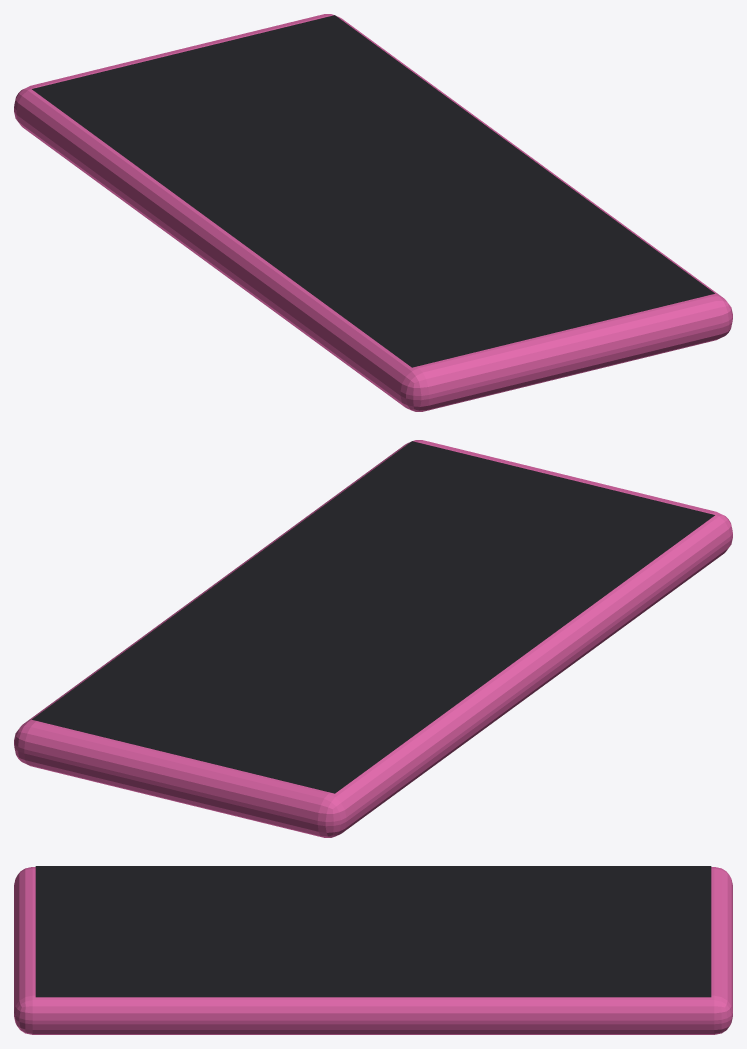
File: oneplus-number-series-model-281-mid-range-2024.glb
3 renders of one model, top to bottom at view 1: azimuth 30°, elevation 25°; view 2: azimuth 150°, elevation 25°; view 3: azimuth 270°, elevation 25°, orthographic. The views are drawn at different scales.
Visible parts, largest first — view 1: Phone_Screen, Phone_Body; view 2: Phone_Screen, Phone_Body; view 3: Phone_Screen, Phone_Body.
Part boxes in pixels (<box>): Phone_Screen: <box>32,15,714,367</box>; Phone_Body: <box>14,14,732,411</box>; Phone_Screen: <box>32,441,714,793</box>; Phone_Body: <box>14,440,732,837</box>; Phone_Screen: <box>35,866,711,997</box>; Phone_Body: <box>14,867,732,1034</box>.
Bounding box in the file's own units: 0.0752 × 0.0093 × 0.1599.
